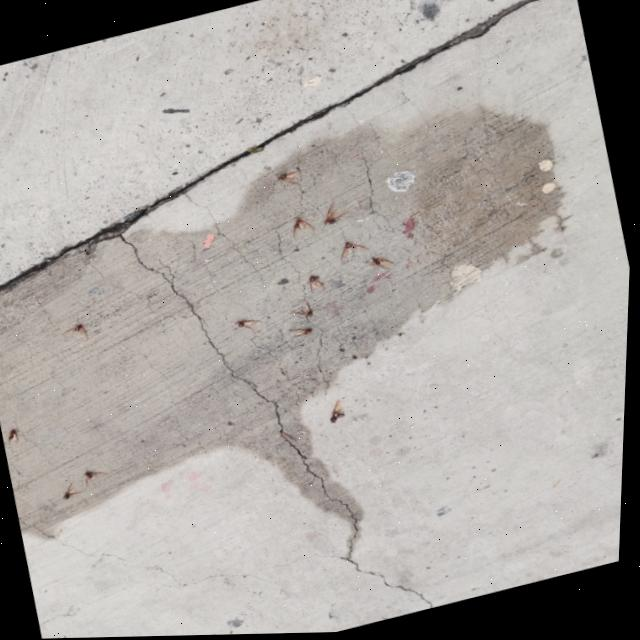Dead-Female-Alate: (329, 401, 350, 425)
Dead-Male-Alate: (319, 201, 352, 228), (340, 238, 373, 263), (290, 215, 319, 240), (289, 298, 317, 323), (278, 166, 306, 191), (63, 322, 92, 346), (85, 463, 113, 487), (63, 479, 91, 500), (370, 254, 397, 275), (238, 316, 265, 336), (307, 273, 330, 296), (291, 325, 316, 341), (10, 428, 23, 446)
